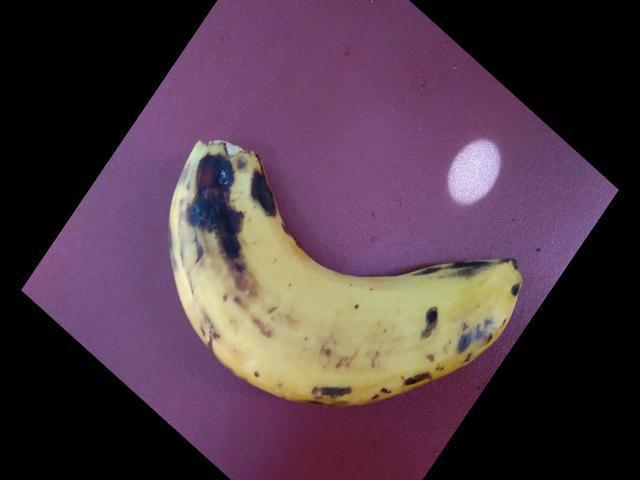overripe: (150, 128, 522, 427)
